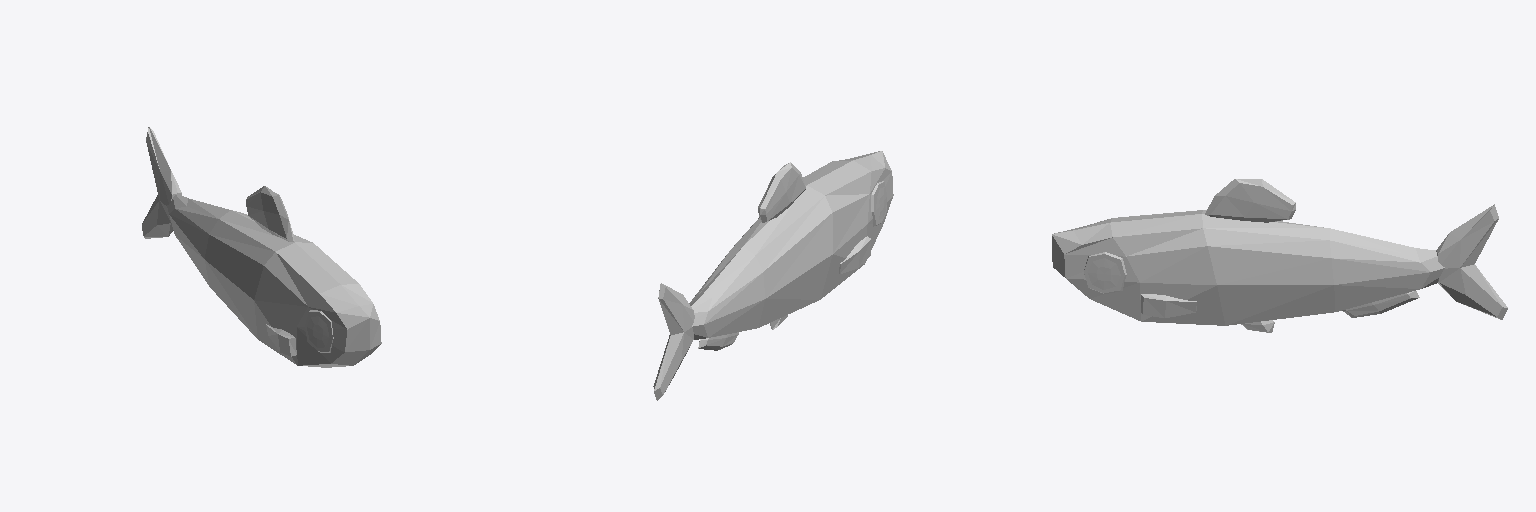
Rendered from Herring_LOD3.obj.
The picture shows the model from 3 angles: view 1: azimuth 30°, elevation 25°; view 2: azimuth 150°, elevation 25°; view 3: azimuth 270°, elevation 25°; orthographic projection.
Parts seen in each view (by area): view 1: Mesh_Herring_LOD3; view 2: Mesh_Herring_LOD3; view 3: Mesh_Herring_LOD3.
Boxes of the visible parts, <box> form: Mesh_Herring_LOD3: <box>142,127,381,367</box>; Mesh_Herring_LOD3: <box>653,151,893,400</box>; Mesh_Herring_LOD3: <box>1052,179,1507,332</box>.
Bounding box in the file's own units: 0.1971 × 0.4109 × 1.1.